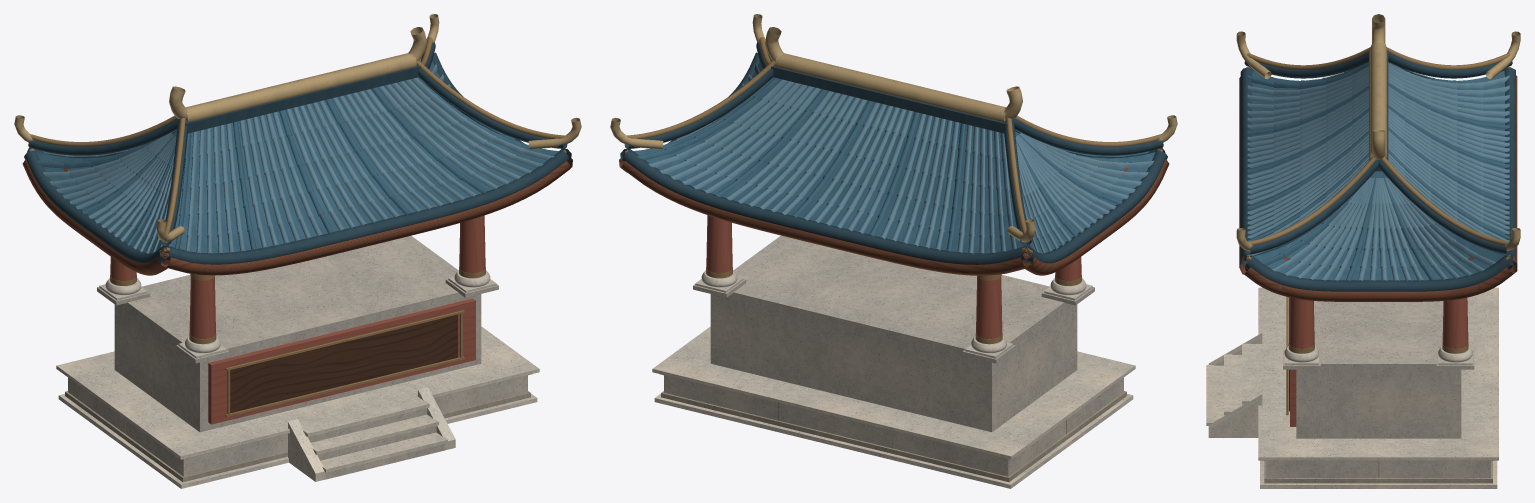
3 views of the same model, side by side, from view 1: azimuth 30°, elevation 25°; view 2: azimuth 150°, elevation 25°; view 3: azimuth 270°, elevation 25° (orthographic). The views are drawn at different scales.
Parts seen in each view (by area): view 1: ShallowCanopy_tileRound, InsetApron_stone, ShallowCanopy_glaze, LowPodium_stonePale, ShallowCanopy_shadowTile, InsetApron_walnut, LowPodium_stone, ShallowCanopy_heartwood, ShallowCanopy_gold, InsetApron_lacquer, ShortRoofPosts_lacquer, ShallowCanopy_bronze (+5 smaller); view 2: InsetApron_stone, ShallowCanopy_tileRound, ShallowCanopy_glaze, LowPodium_stonePale, ShallowCanopy_shadowTile, LowPodium_stone, ShallowCanopy_gold, ShallowCanopy_heartwood, ShortRoofPosts_lacquer, LowPodium_carving, ShallowCanopy_bronze, ShortRoofPosts_stonePale (+2 smaller); view 3: ShallowCanopy_tileRound, LowPodium_stonePale, InsetApron_stone, ShallowCanopy_glaze, ShallowCanopy_shadowTile, ShallowCanopy_gold, ShallowCanopy_heartwood, LowPodium_stone, ShallowCanopy_bronze, ShortRoofPosts_lacquer, LowPodium_carving, ShortRoofPosts_stonePale (+2 smaller).
Part boxes in pixels (<box>): ShallowCanopy_tileRound: <box>42,64,554,256</box>; InsetApron_stone: <box>114,236,481,432</box>; ShallowCanopy_glaze: <box>36,61,558,253</box>; LowPodium_stonePale: <box>56,326,539,488</box>; ShallowCanopy_shadowTile: <box>24,42,571,264</box>; InsetApron_walnut: <box>230,314,457,412</box>; LowPodium_stone: <box>68,375,527,479</box>; ShallowCanopy_heartwood: <box>22,154,572,275</box>; ShallowCanopy_gold: <box>14,14,581,242</box>; InsetApron_lacquer: <box>208,298,475,424</box>; ShortRoofPosts_lacquer: <box>110,215,485,338</box>; ShallowCanopy_bronze: <box>28,37,567,255</box>; InsetApron_stone: <box>710,235,1077,432</box>; ShallowCanopy_tileRound: <box>648,74,1153,253</box>; ShallowCanopy_glaze: <box>633,61,1155,253</box>; LowPodium_stonePale: <box>652,326,1135,488</box>; ShallowCanopy_shadowTile: <box>620,42,1167,264</box>; LowPodium_stone: <box>664,375,1123,476</box>; ShallowCanopy_gold: <box>610,14,1177,242</box>; ShallowCanopy_heartwood: <box>619,154,1169,275</box>; ShortRoofPosts_lacquer: <box>706,215,1081,338</box>; LowPodium_carving: <box>659,374,1126,482</box>; ShallowCanopy_bronze: <box>624,37,1163,255</box>; ShortRoofPosts_stonePale: <box>695,270,1092,358</box>; ShallowCanopy_tileRound: <box>1247,62,1509,280</box>; LowPodium_stonePale: <box>1206,287,1498,488</box>; InsetApron_stone: <box>1296,301,1461,438</box>; ShallowCanopy_glaze: <box>1247,62,1509,280</box>; ShallowCanopy_shadowTile: <box>1240,50,1515,291</box>; ShallowCanopy_gold: <box>1236,14,1520,250</box>; ShallowCanopy_heartwood: <box>1239,75,1517,301</box>; LowPodium_stone: <box>1266,461,1490,477</box>; ShallowCanopy_bronze: <box>1245,47,1511,260</box>; ShortRoofPosts_lacquer: <box>1289,297,1468,348</box>; LowPodium_carving: <box>1263,460,1493,483</box>; ShortRoofPosts_stonePale: <box>1284,346,1472,365</box>.
Bounding box in the file's own units: 5.83 × 4.51 × 3.87.
Materials: 12 (12 with a texture image).
